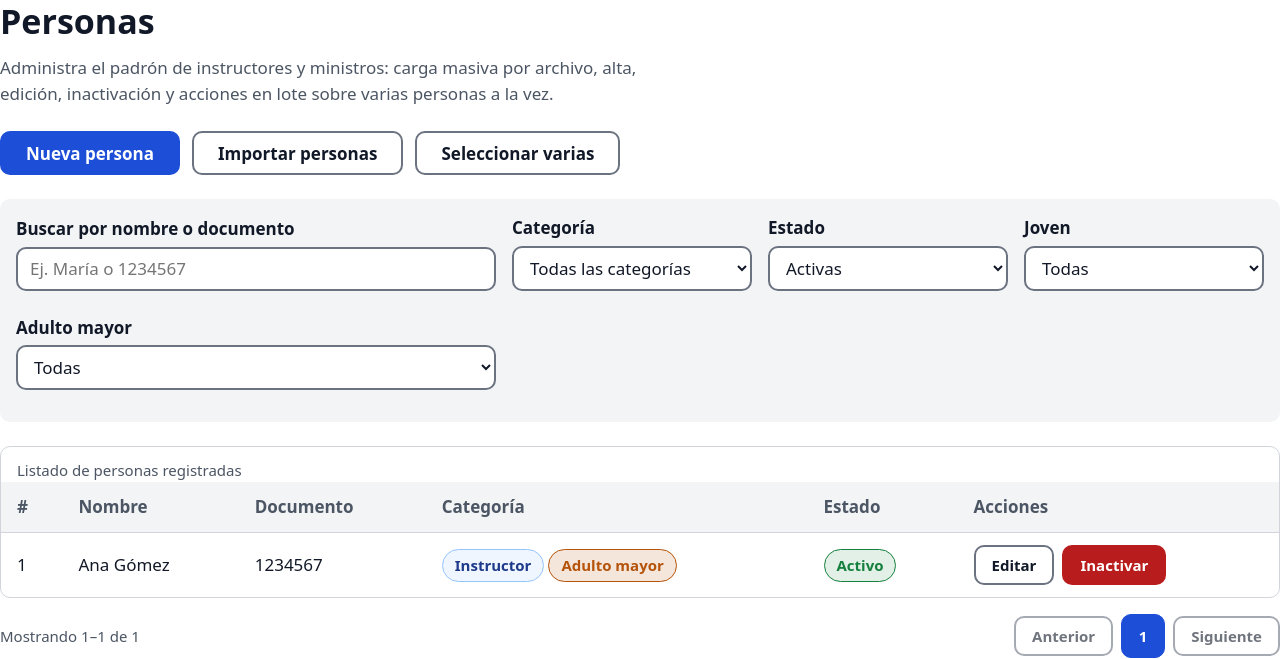
Test: PeopleManager › el formulario de edición precarga el valor actual de «Adulto mayor»
Expected: the text "Ana Gómez" is shown, [62,533,239,598]
Click the button with aria-label "Editar a Ana Gómez": [1014, 566] box [974,546,1054,586]
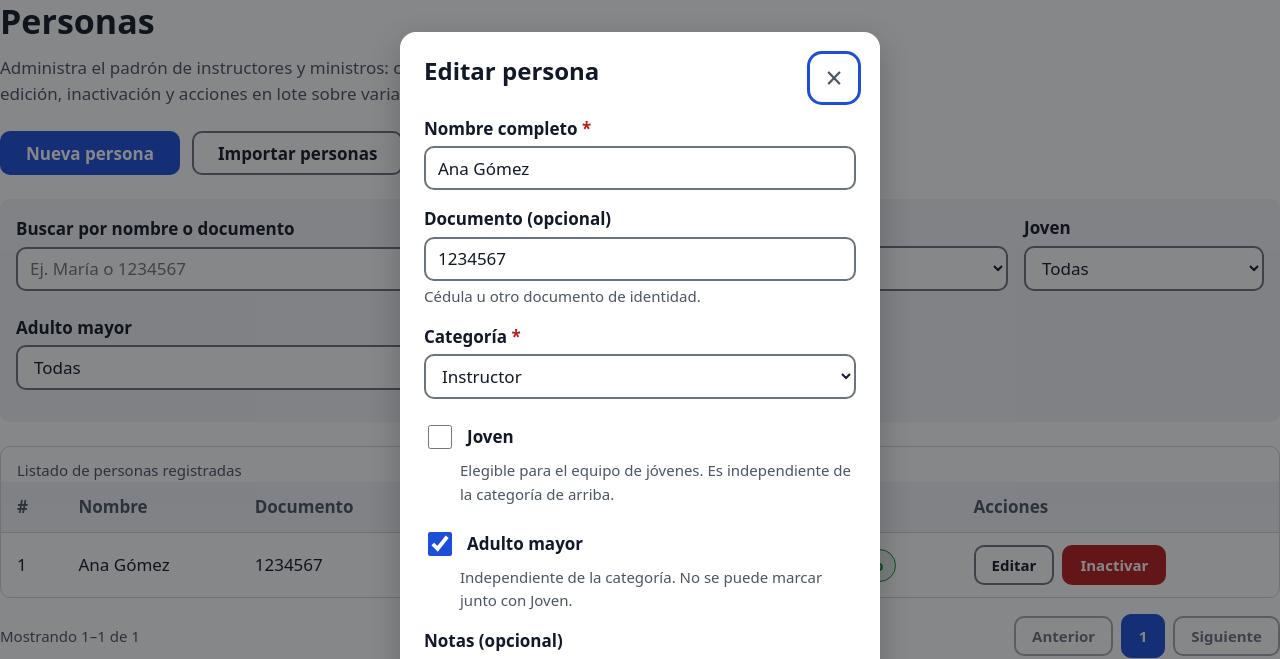
Expected: the checkbox labelled "Adulto mayor" is checked, [428,532,452,556]
Expected: the checkbox labelled "Joven" is not checked, [428,425,452,449]
